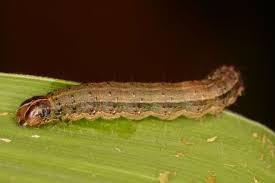fallarmy_worm: (5, 63, 251, 130)
